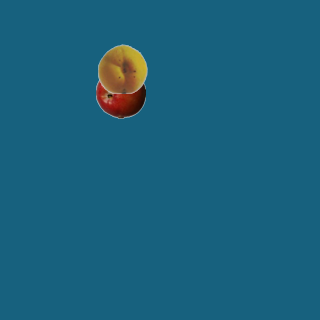Apple Braeburn: (95, 68, 145, 118)
Peach 2: (97, 43, 147, 93)
